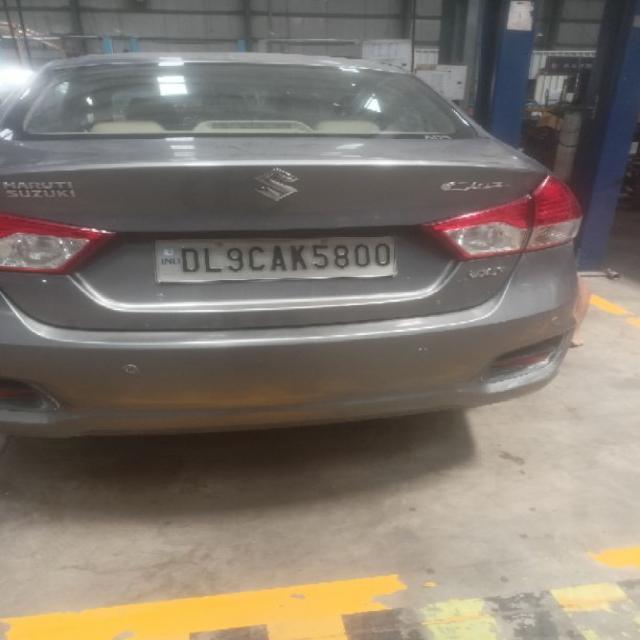license_plate: (152, 234, 398, 284)
